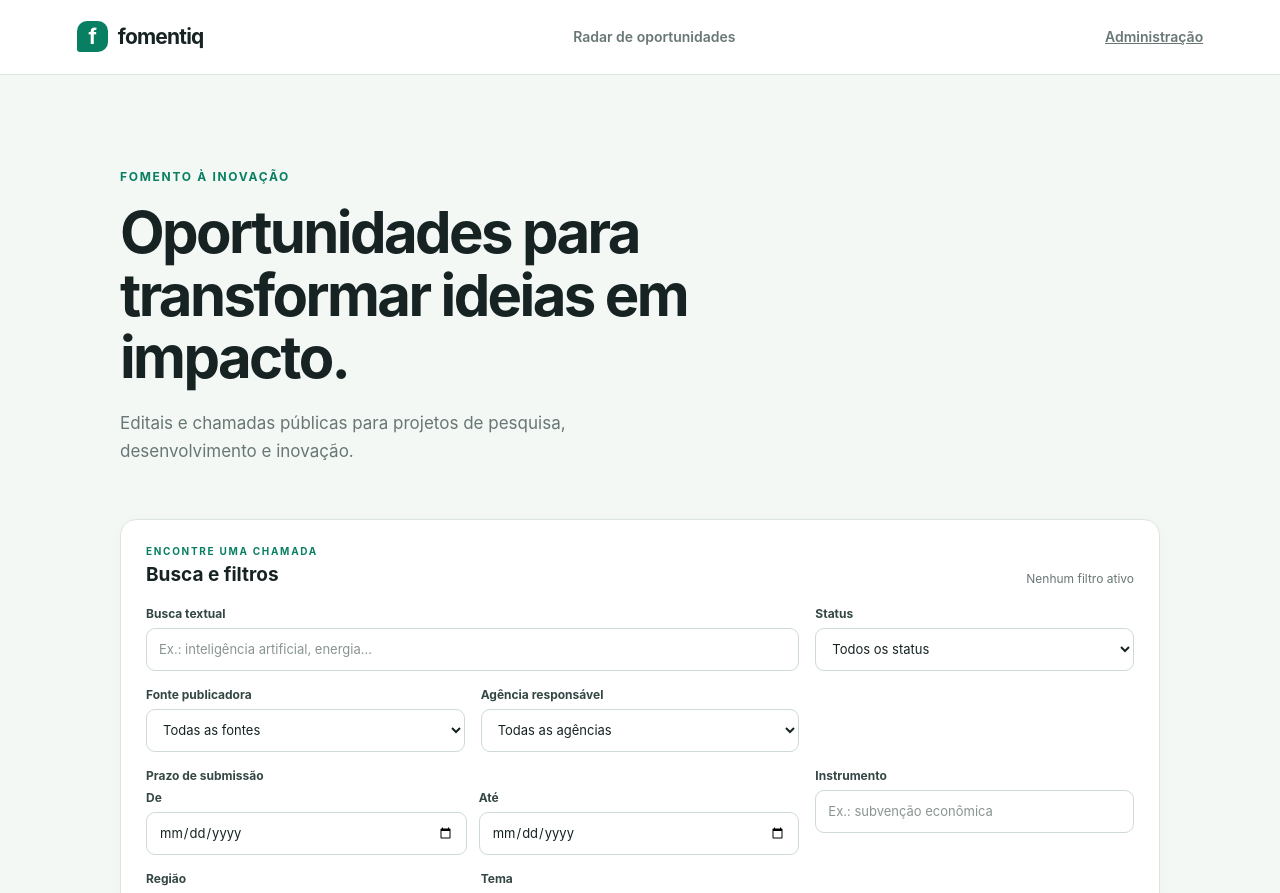
Scenario: opportunity catalog › rejects an inverted deadline range without making a request
The width and height of the screenshot is (1280, 893).
Type "2026-12-31" into the date field labelled "De" at (306, 834), box top-left (146, 812), bottom-right (467, 855)
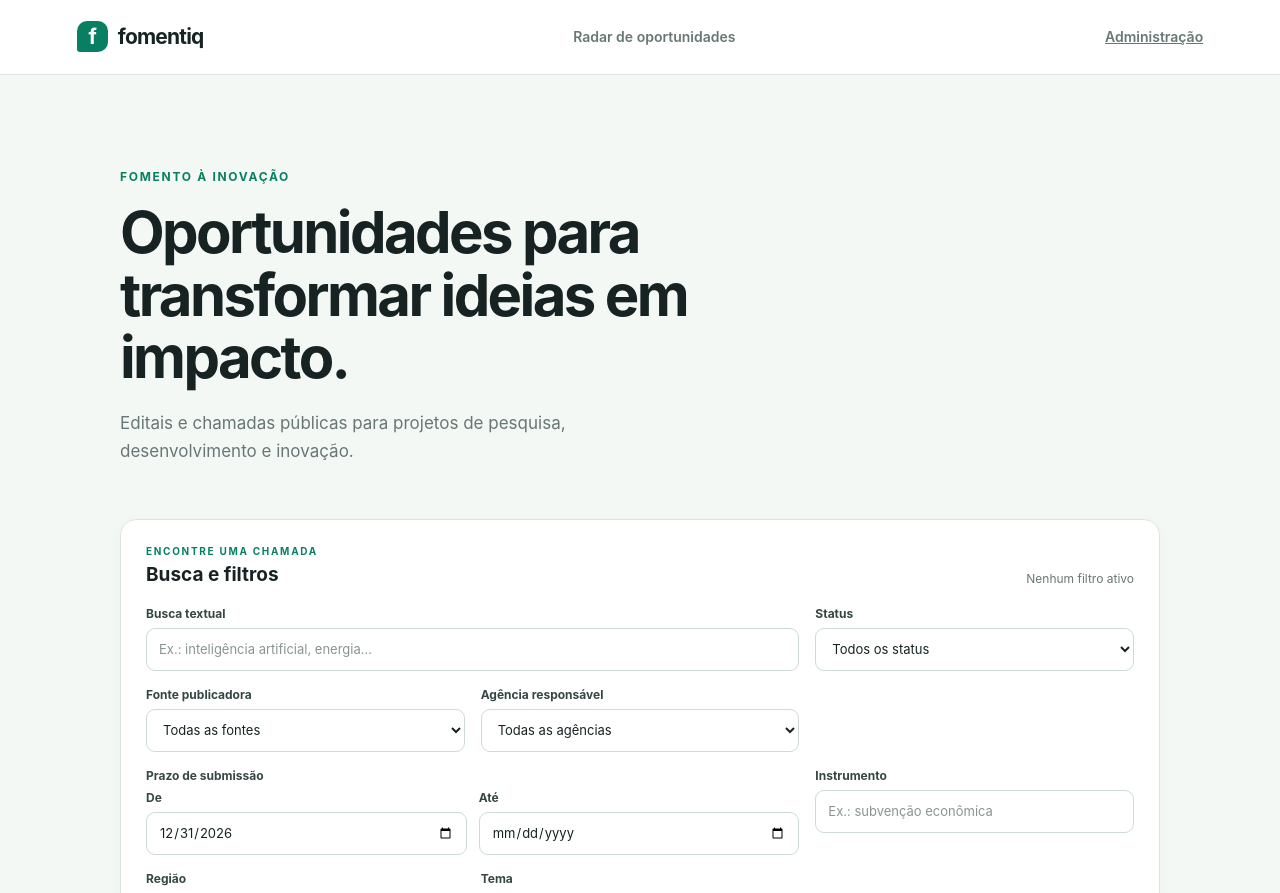
Type "2026-01-01" into the date field labelled "Até" at (639, 834), box top-left (479, 812), bottom-right (799, 855)
(page scrolled)
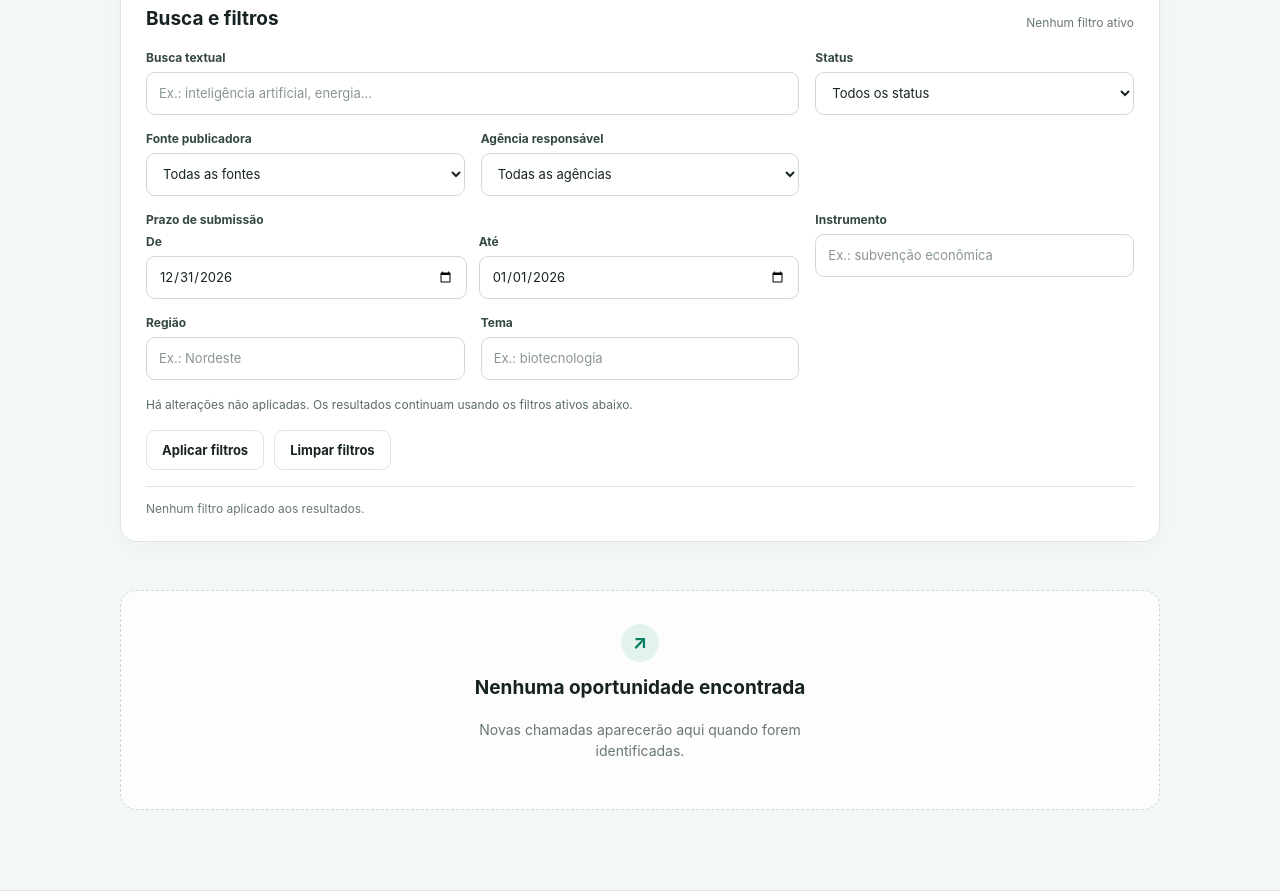
Click the button "Aplicar filtros" at (205, 450), box top-left (146, 430), bottom-right (264, 470)
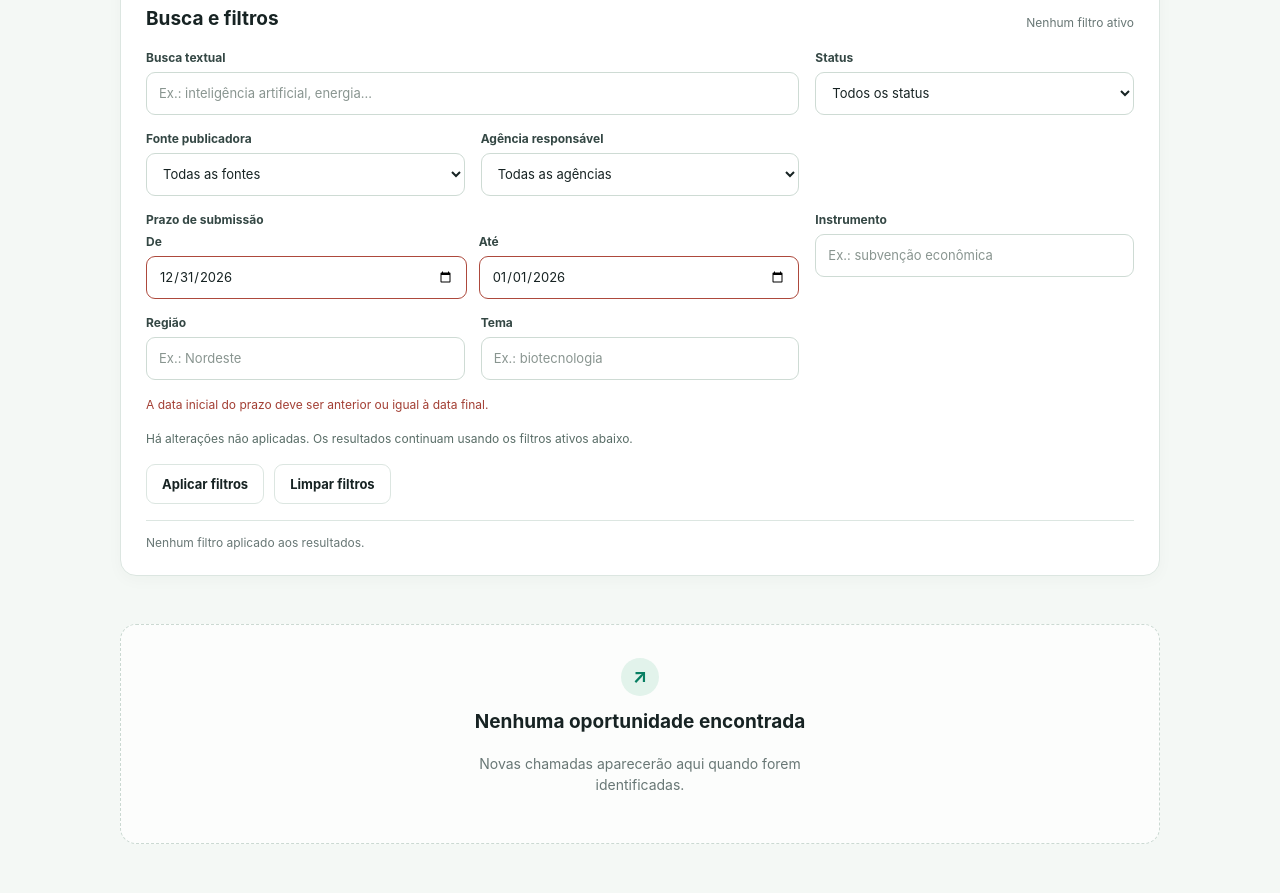
Check: the message "A data inicial do prazo deve ser anterior ou igual à data final." is shown, box top-left (146, 397), bottom-right (488, 412)
